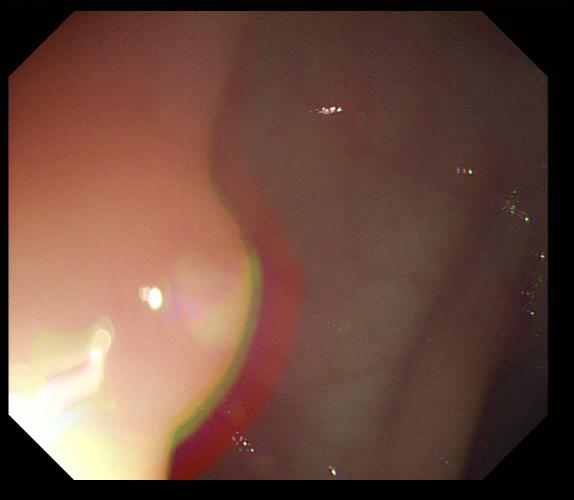polyp: (155, 195, 259, 440)
